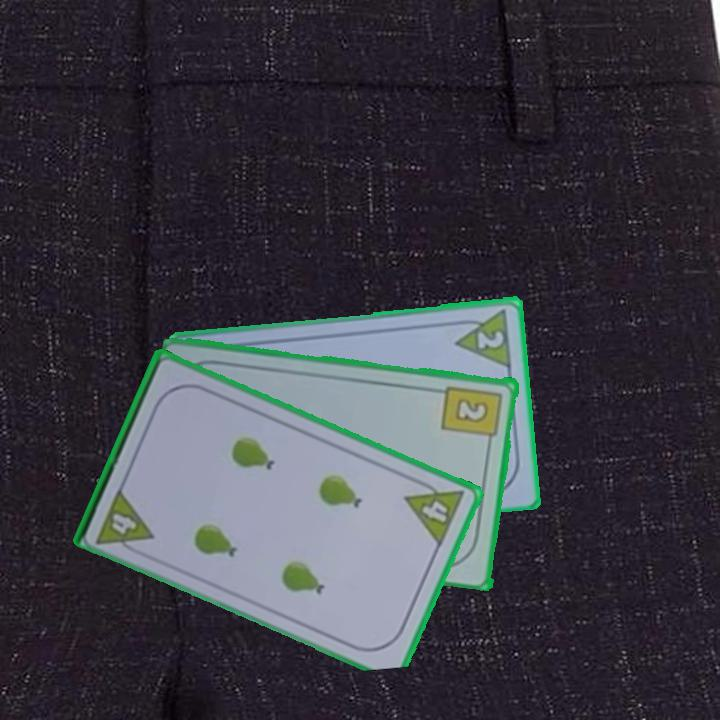2b: (439, 381, 506, 449)
2p: (451, 305, 515, 370)
4p: (401, 473, 467, 549), (93, 483, 156, 560)
